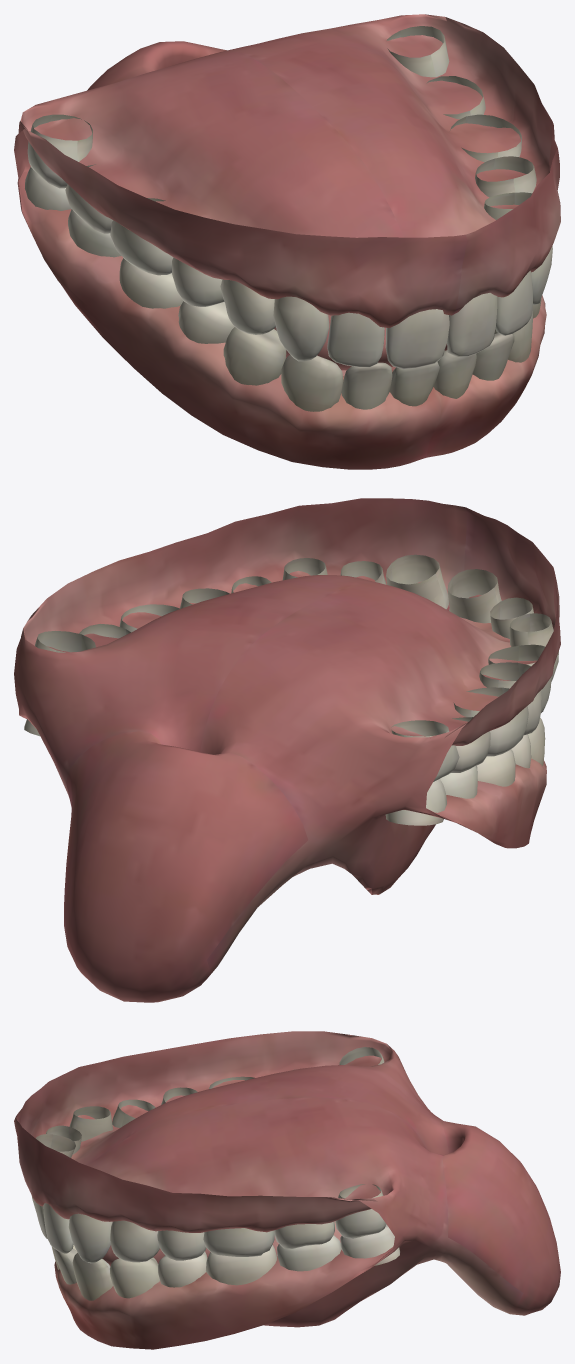
File: dentes-humanos.glb
3 views of the same model, one above another, from view 1: azimuth 30°, elevation 25°; view 2: azimuth 150°, elevation 25°; view 3: azimuth 270°, elevation 25° (orthographic). The views are drawn at different scales.
Visible parts, largest first — view 1: dentes-humanos; view 2: dentes-humanos; view 3: dentes-humanos.
Boxes of the visible parts, <box> form: dentes-humanos: <box>14,14,560,469</box>; dentes-humanos: <box>14,498,560,1002</box>; dentes-humanos: <box>14,1031,560,1349</box>.
Size of the model in its own units: 1.67 by 1 by 2.33.
2 materials, 2 textured.
